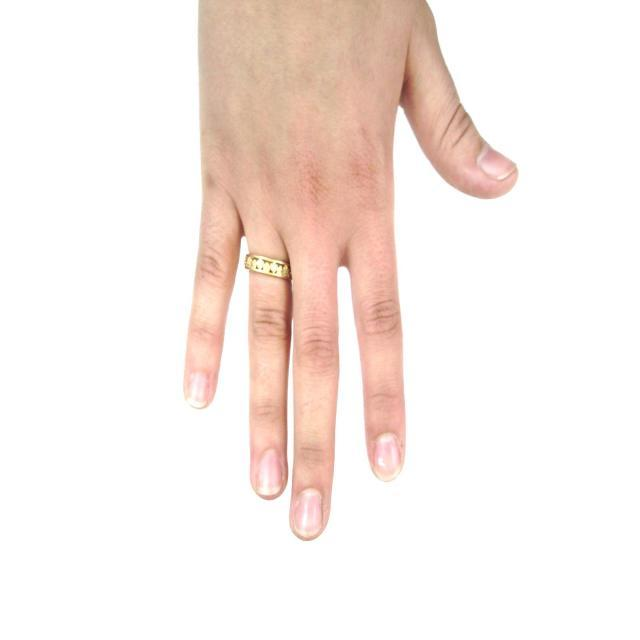Fingernail: (293, 489, 323, 535), (479, 146, 515, 180), (374, 434, 400, 481), (257, 450, 282, 495), (187, 373, 208, 407)
